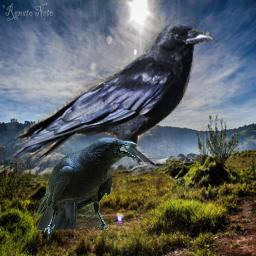Crow: (10, 19, 217, 178), (34, 137, 138, 241)
